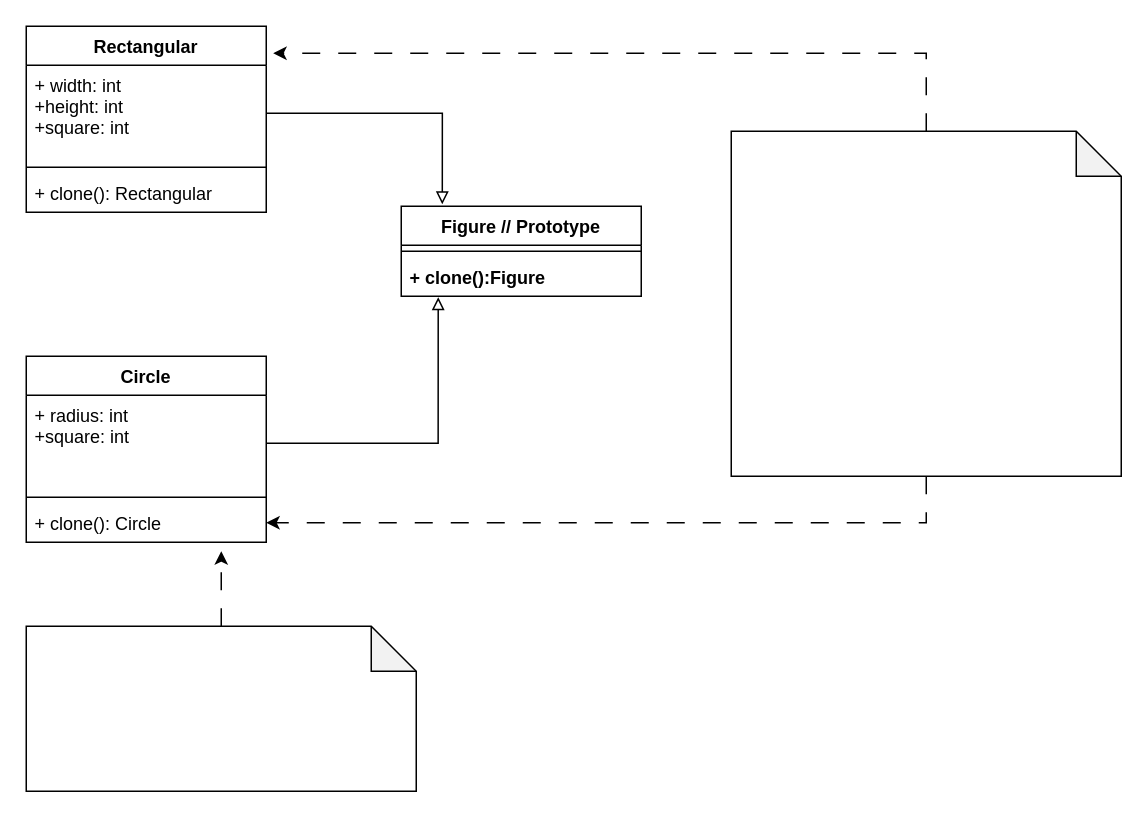
Image size: 1148x818. Some labels were removed from this diagram. The shapes that lost their labels are listed below. From the top down, each one's centre as x and y in pixels, then its label:
pixel 925 303: Client r1 = Rectangular(10,15) r2 = r1.clone() c1 = Circle(15) c2 = c1.clone()
pixel 220 708: Clone() return copy.deepcopy(self)
